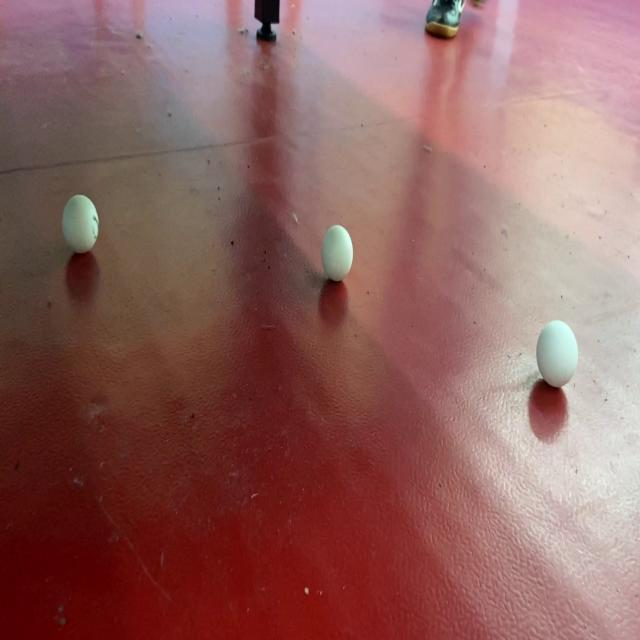ping-pong-ball: (535, 316, 580, 391), (60, 188, 100, 258), (320, 220, 354, 286)
